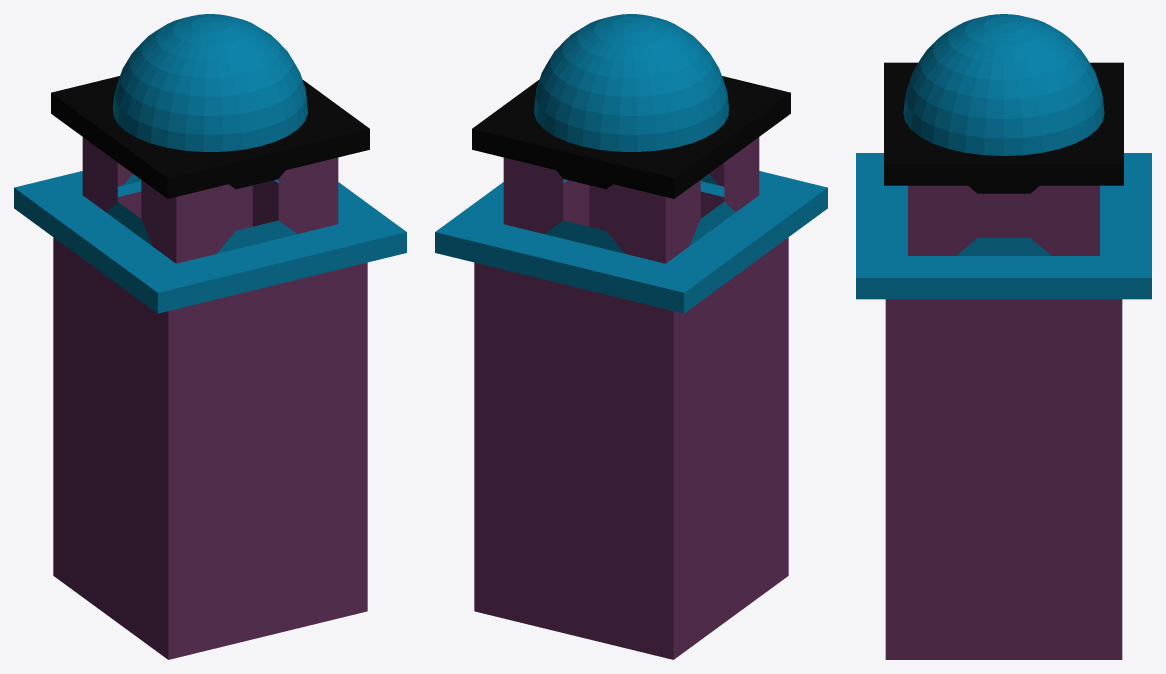
File: TurretBlue.fbx
3 views of the same model, side by side, from view 1: azimuth 30°, elevation 25°; view 2: azimuth 150°, elevation 25°; view 3: azimuth 270°, elevation 25° (orthographic). The views are drawn at different scales.
Visible parts, largest first — view 1: TorretaAzul; view 2: TorretaAzul; view 3: TorretaAzul.
Part boxes in pixels (box(x1,y1,x2,y2)): TorretaAzul: box(14, 14, 406, 659); TorretaAzul: box(435, 14, 827, 659); TorretaAzul: box(856, 14, 1151, 659).
Size of the model in its own units: 250 by 547 by 250.
